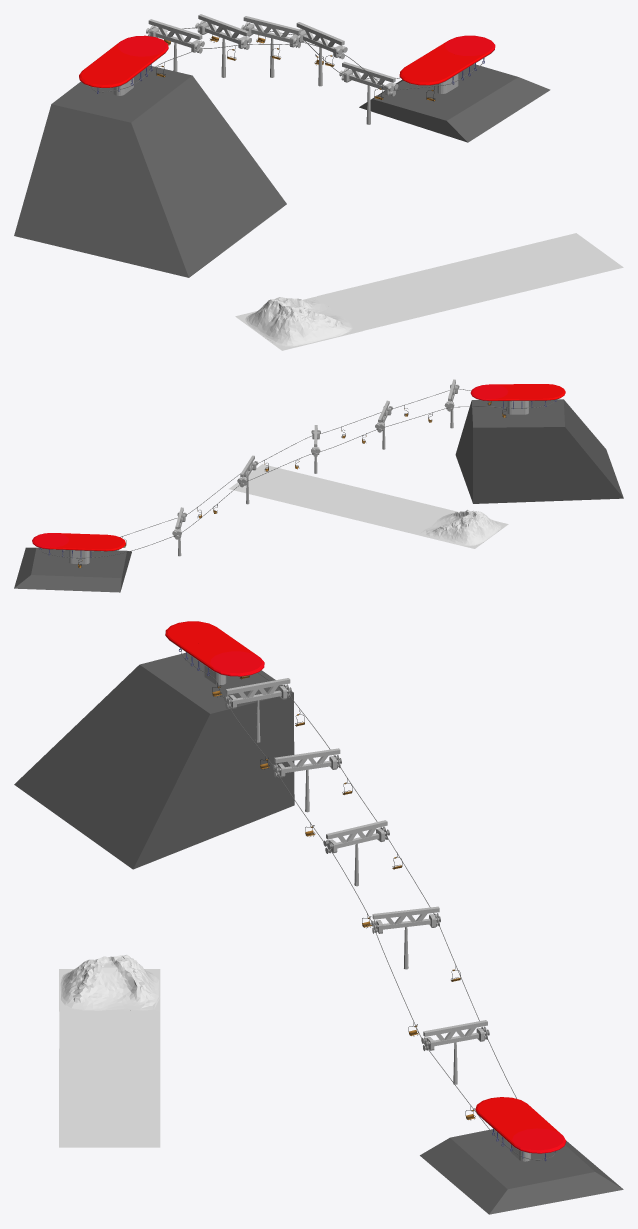
The model's file is snowy_slope.glb.
3 renders of one model, top to bottom at view 1: azimuth 30°, elevation 25°; view 2: azimuth 150°, elevation 25°; view 3: azimuth 270°, elevation 25°, orthographic. The views are drawn at different scales.
Visible parts, largest first — view 1: Cube.001, Landscape, BezierCircle; view 2: Cube.001, Landscape, BezierCircle; view 3: Cube.001, Landscape, BezierCircle.
Boxes of the visible parts, x1,y1,x2,y2 form: Cube.001: [14, 14, 550, 277]; Landscape: [235, 233, 623, 350]; BezierCircle: [91, 27, 484, 92]; Cube.001: [14, 379, 623, 592]; Landscape: [229, 464, 508, 548]; BezierCircle: [41, 389, 555, 558]; Cube.001: [14, 621, 623, 1214]; Landscape: [59, 955, 160, 1147]; BezierCircle: [181, 649, 555, 1160].
Size of the model in its own units: 16.72 by 6.08 by 12.06.
